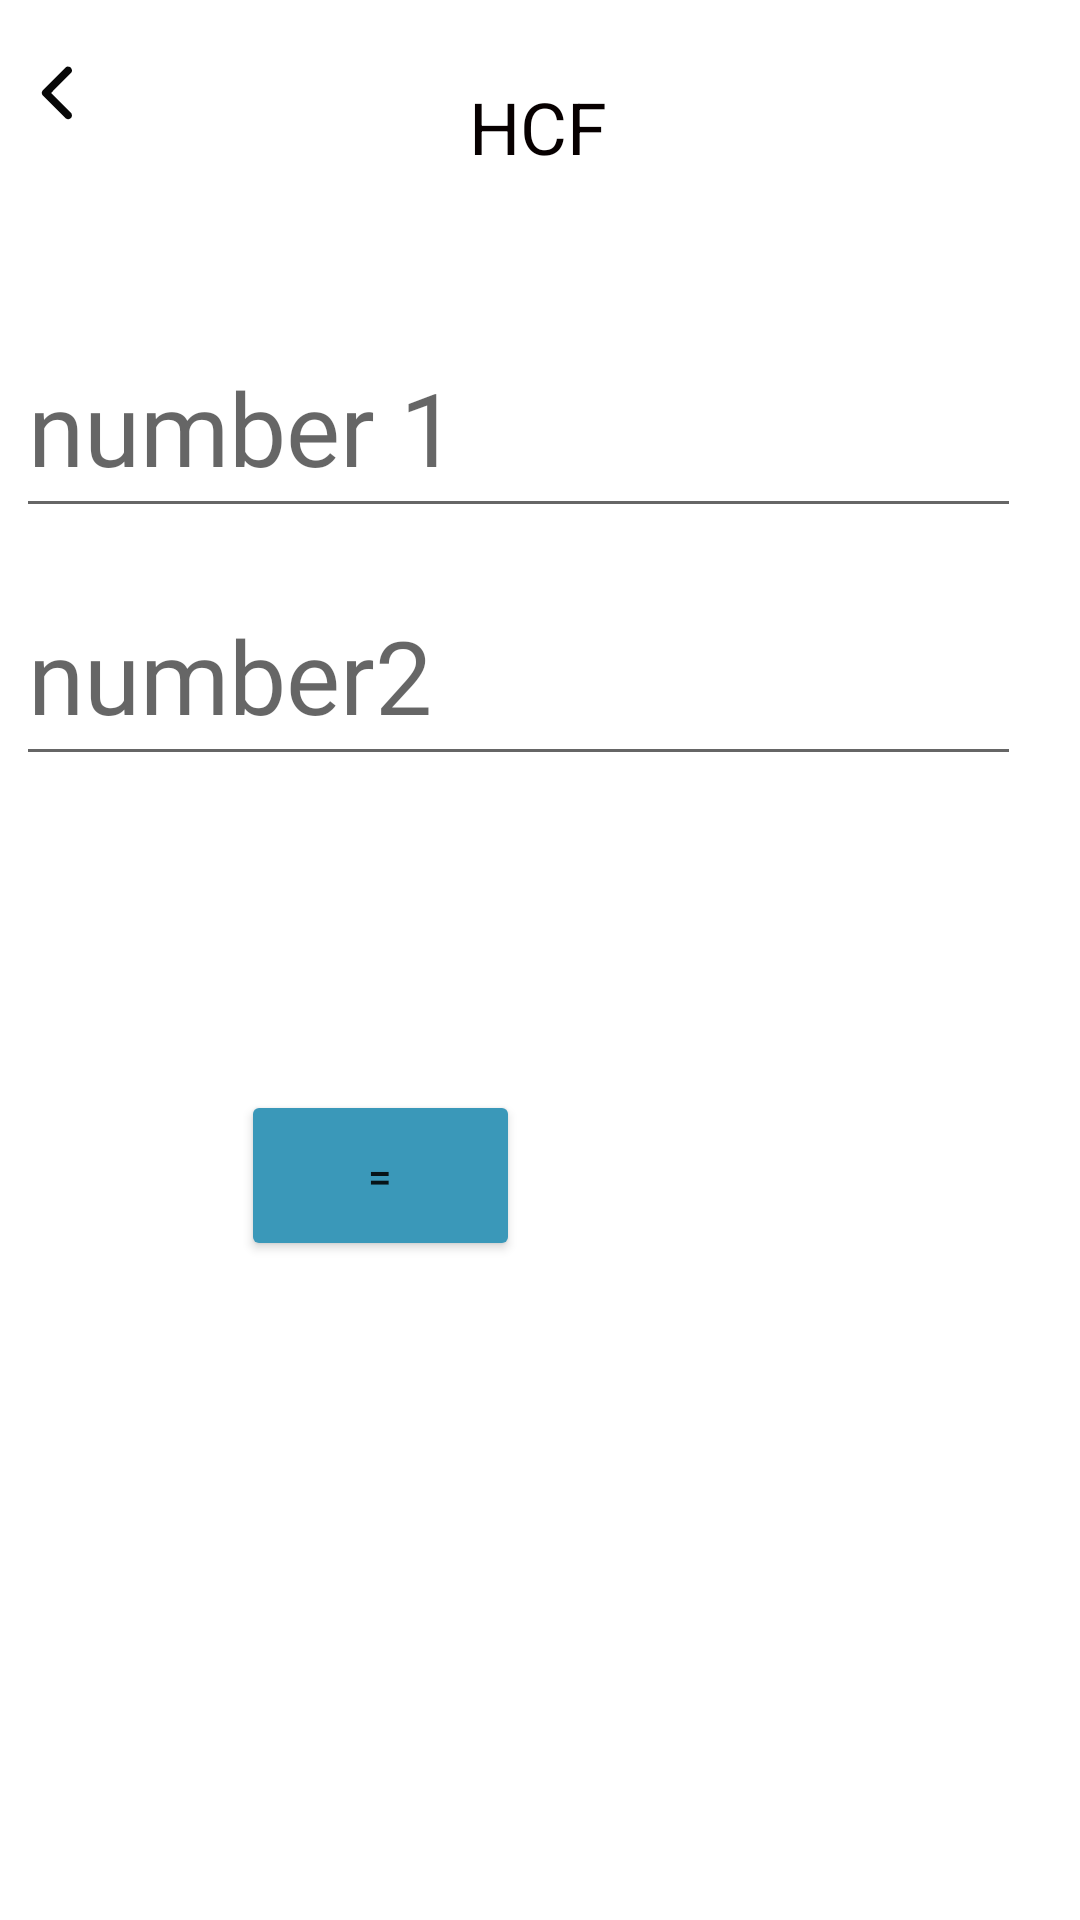

Where icons sit on this 1080w x 1920h app screen, as (x1, y1, x2, y2):
back: (41, 66, 72, 120)
